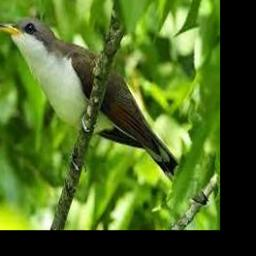Cuckoo: (0, 18, 208, 204)
